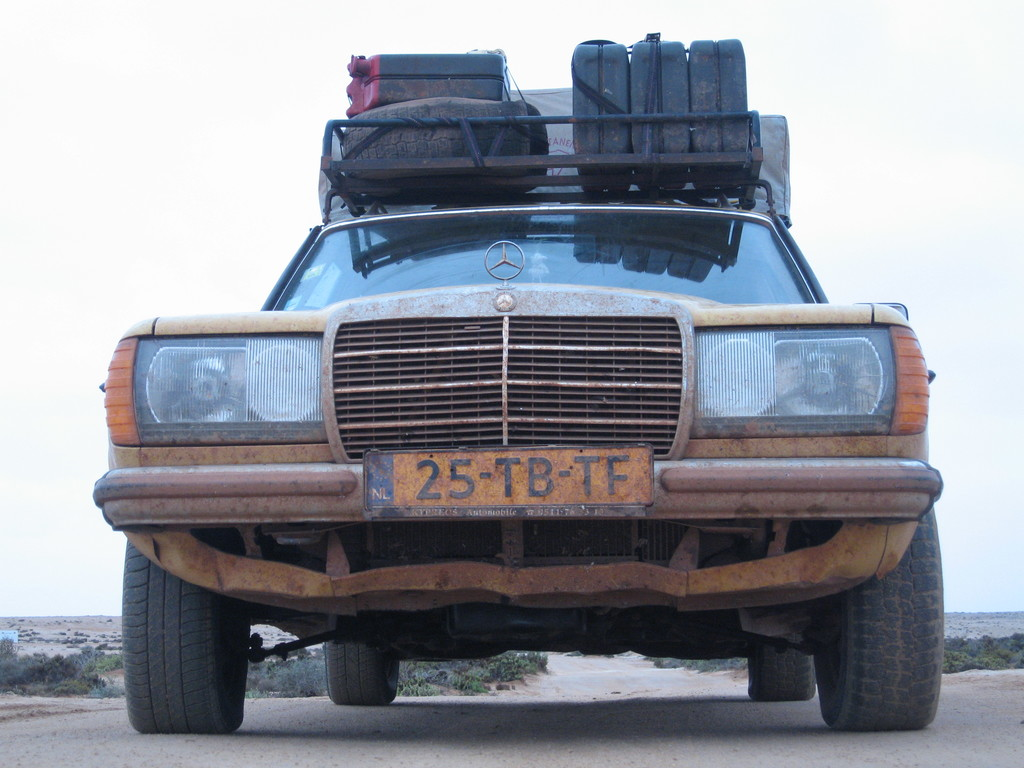Car: (87, 53, 937, 748)
